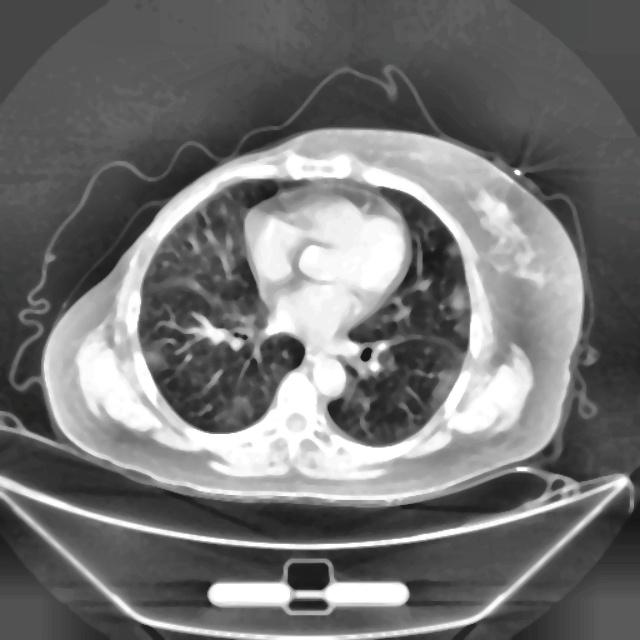covid: (40, 124, 588, 508)
